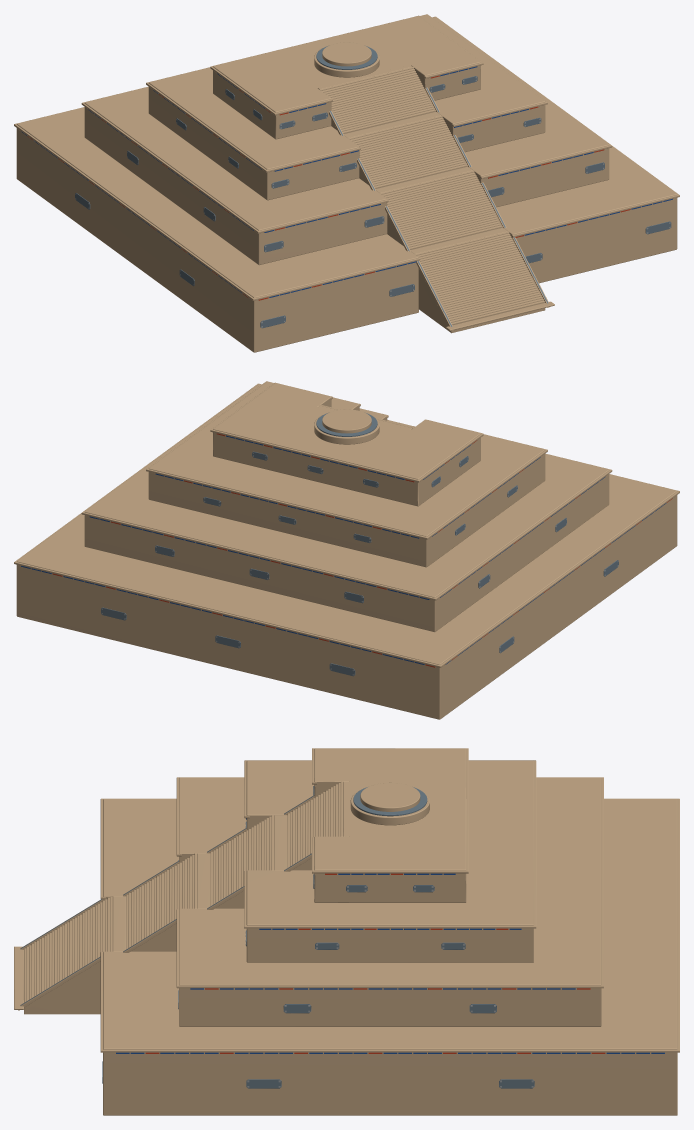
The model's file is ziggurat_architecture.glb.
3 views of the same model, one above another, from view 1: azimuth 30°, elevation 25°; view 2: azimuth 150°, elevation 25°; view 3: azimuth 270°, elevation 25° (orthographic). The views are drawn at different scales.
Parts seen in each view (by area): view 1: stone_rectilinear_tier_01, stone_rectilinear_tier_02, stone_processional_staircase, stone_rectilinear_tier_03, stone_rectilinear_tier_04, stone_integrated_terrace_cornices, scifi_inset_metal_panels, tile_lapis_inlays, stone_orb_dais, stone_summit_plinth, stone_entry_threshold; view 2: stone_rectilinear_tier_01, stone_rectilinear_tier_02, stone_rectilinear_tier_03, stone_rectilinear_tier_04, stone_integrated_terrace_cornices, scifi_inset_metal_panels, tile_lapis_inlays, stone_orb_dais, stone_summit_plinth, tile_carnelian_inlays; view 3: stone_rectilinear_tier_01, stone_rectilinear_tier_02, stone_rectilinear_tier_03, stone_processional_staircase, stone_rectilinear_tier_04, stone_integrated_terrace_cornices, tile_lapis_inlays, scifi_inset_metal_panels, stone_orb_dais, stone_summit_plinth, stone_entry_threshold, scifi_dais_inset_metal_reveal.
Boxes of the visible parts, box(x1,y1,x2,y2) form: stone_rectilinear_tier_01: box(16, 107, 677, 352); stone_rectilinear_tier_02: box(84, 17, 609, 265); stone_processional_staircase: box(320, 67, 545, 333); stone_rectilinear_tier_03: box(148, 14, 545, 200); stone_rectilinear_tier_04: box(213, 16, 480, 139); stone_integrated_terrace_cornices: box(14, 14, 679, 300); scifi_inset_metal_panels: box(75, 76, 671, 328); tile_lapis_inlays: box(21, 66, 672, 297); stone_orb_dais: box(322, 42, 371, 66); stone_summit_plinth: box(314, 48, 379, 77); stone_entry_threshold: box(446, 301, 554, 330); stone_rectilinear_tier_01: box(16, 420, 677, 719); stone_rectilinear_tier_02: box(84, 384, 609, 632); stone_rectilinear_tier_03: box(148, 381, 545, 567); stone_rectilinear_tier_04: box(213, 383, 480, 506); stone_integrated_terrace_cornices: box(14, 381, 679, 667); scifi_inset_metal_panels: box(101, 451, 618, 676); tile_lapis_inlays: box(21, 435, 666, 664); stone_orb_dais: box(322, 409, 371, 433); stone_summit_plinth: box(314, 415, 379, 444); tile_carnelian_inlays: box(52, 433, 672, 667); stone_rectilinear_tier_01: box(103, 799, 677, 1115); stone_rectilinear_tier_02: box(179, 777, 601, 1026); stone_rectilinear_tier_03: box(246, 760, 533, 962); stone_processional_staircase: box(24, 781, 343, 1014); stone_rectilinear_tier_04: box(314, 748, 466, 902); stone_integrated_terrace_cornices: box(100, 748, 679, 1052); tile_lapis_inlays: box(116, 818, 664, 1053); scifi_inset_metal_panels: box(102, 786, 534, 1088); stone_orb_dais: box(360, 782, 420, 811); stone_summit_plinth: box(350, 790, 429, 825); stone_entry_threshold: box(14, 946, 23, 1009); scifi_dais_inset_metal_reveal: box(353, 787, 427, 816).
Bounding box in the file's own units: 70.56 × 25.57 × 78.83.
